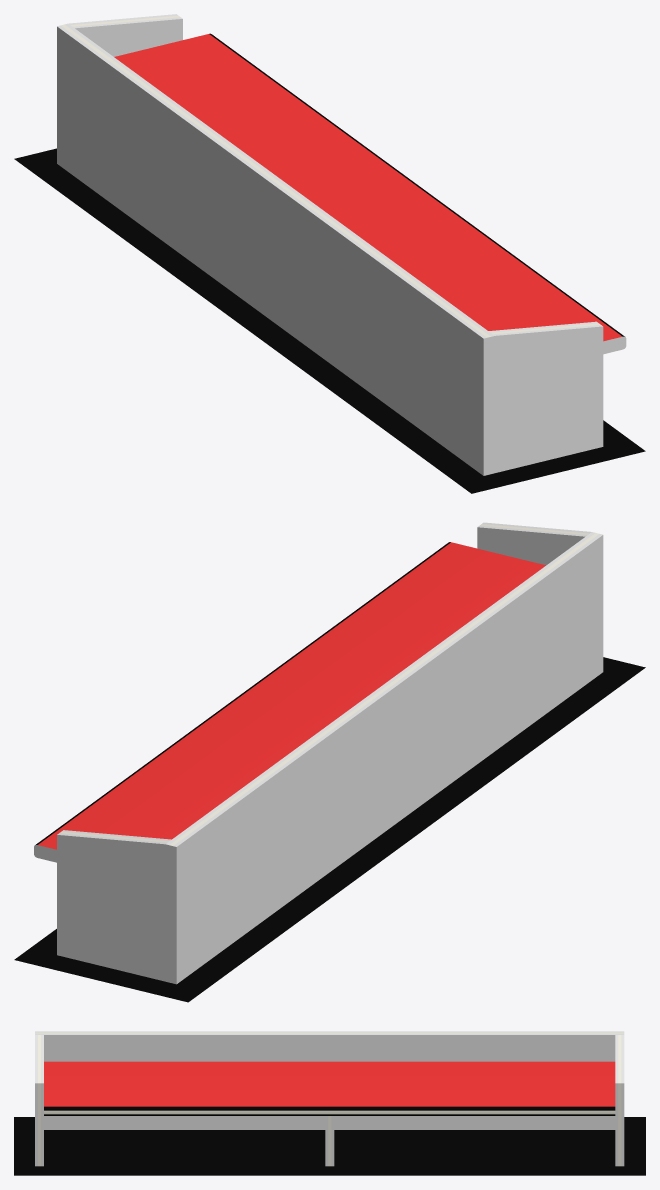
Rendered from Mod_JiaZi.fbx.
3 views of the same model, one above another, from view 1: azimuth 30°, elevation 25°; view 2: azimuth 150°, elevation 25°; view 3: azimuth 270°, elevation 25° (orthographic). The views are drawn at different scales.
Visible parts, largest first — view 1: Box001; view 2: Box001; view 3: Box001.
Part boxes in pixels (<box>): Box001: <box>14,14,645,493</box>; Box001: <box>14,522,645,1002</box>; Box001: <box>14,1031,645,1175</box>.
Bounding box in the file's own units: 0.3506 × 0.2606 × 1.57.
